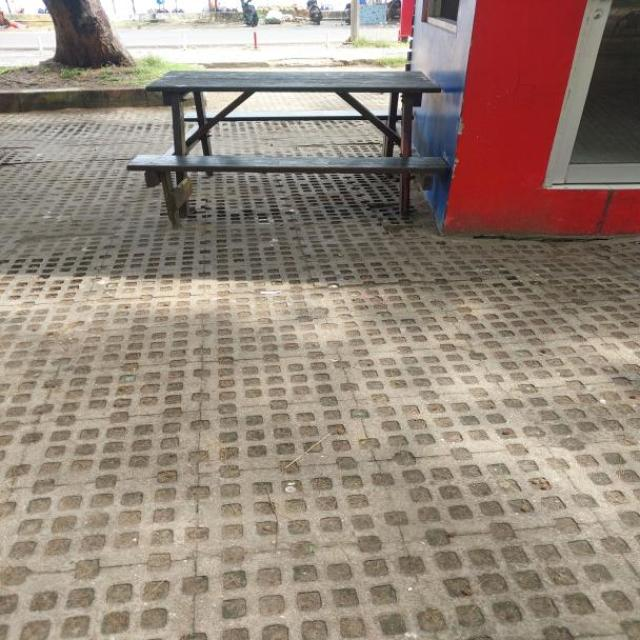Table ahead at: (146, 60, 441, 146)
